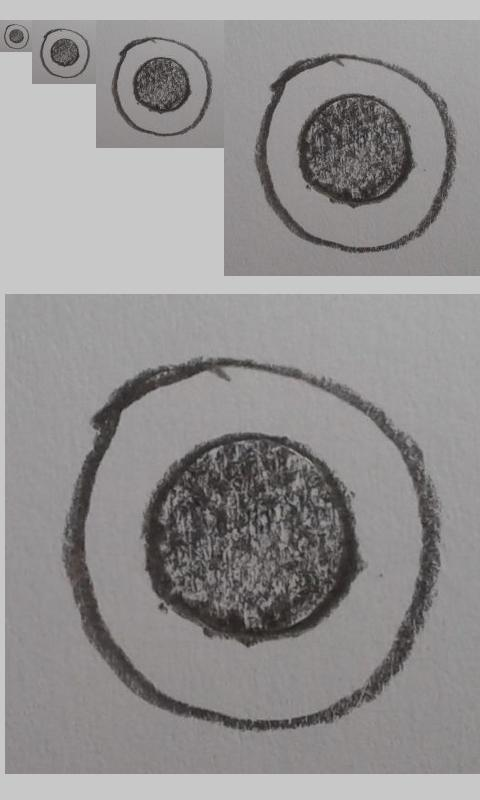radio_button: (63, 355, 443, 734), (255, 53, 457, 254), (112, 36, 212, 137), (40, 28, 90, 79), (3, 23, 30, 50)
